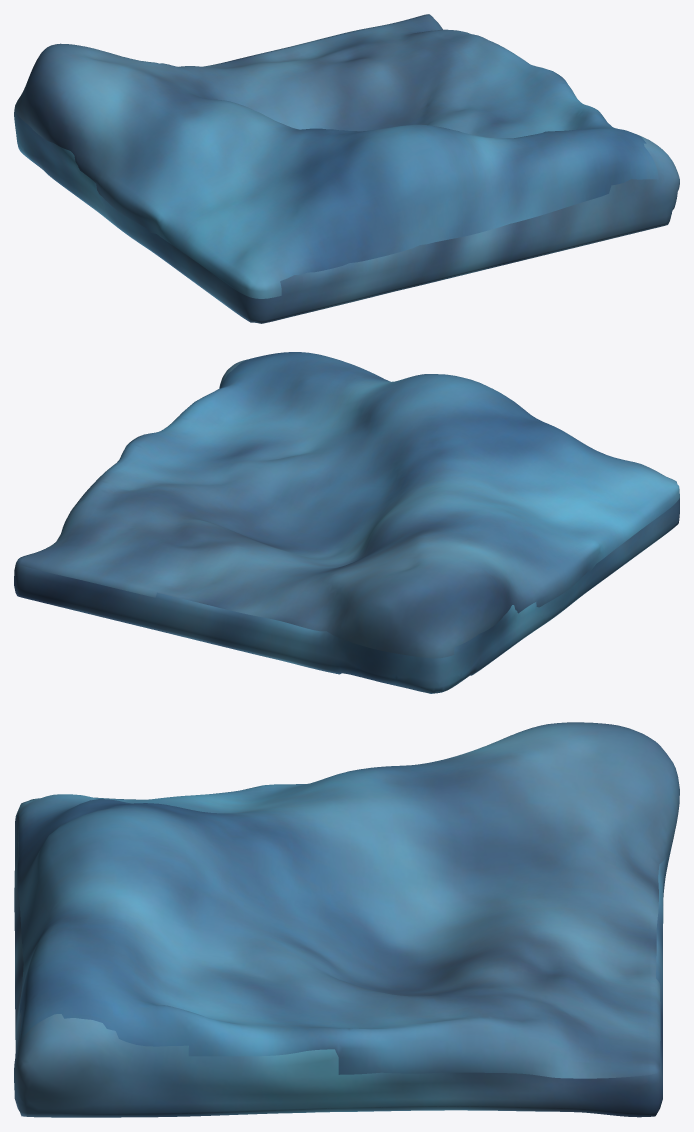
The model's file is mundodenievenalgon.fbx.
3 renders of one model, top to bottom at view 1: azimuth 30°, elevation 25°; view 2: azimuth 150°, elevation 25°; view 3: azimuth 270°, elevation 25°, orthographic. The views are drawn at different scales.
Parts seen in each view (by area): view 1: Cube; view 2: Cube; view 3: Cube.
Boxes of the visible parts, bbox=[...] form: Cube: bbox=[14, 14, 679, 323]; Cube: bbox=[14, 352, 679, 693]; Cube: bbox=[14, 722, 679, 1117].
Bounding box in the file's own units: 1037 × 266 × 1011.
1 material, 1 textured.
